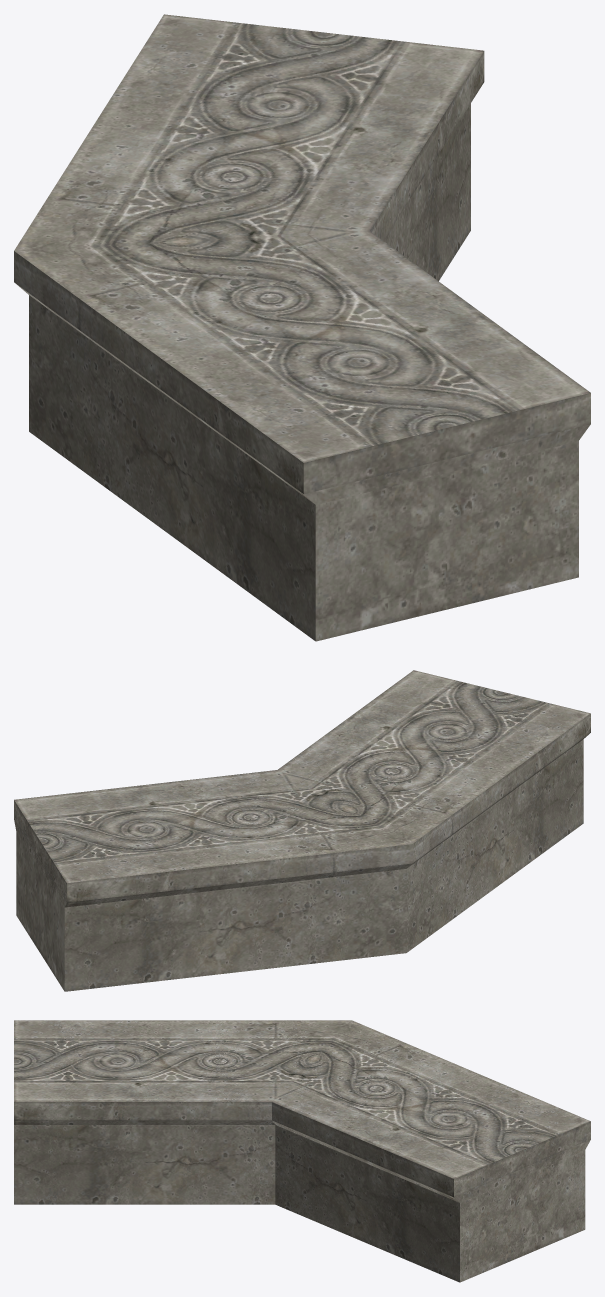
The model's file is bg_lut_lucastle_castleborder01c_sm_phs.FBX.
3 views of the same model, one above another, from view 1: azimuth 30°, elevation 25°; view 2: azimuth 150°, elevation 25°; view 3: azimuth 270°, elevation 25° (orthographic). The views are drawn at different scales.
Visible parts, largest first — view 1: bg_lut_lucastle_castleborder01c_sm_phs; view 2: bg_lut_lucastle_castleborder01c_sm_phs; view 3: bg_lut_lucastle_castleborder01c_sm_phs.
Boxes of the visible parts, left/top/right/bottom form: bg_lut_lucastle_castleborder01c_sm_phs: left=14, top=14, right=590, bottom=641; bg_lut_lucastle_castleborder01c_sm_phs: left=14, top=670, right=590, bottom=991; bg_lut_lucastle_castleborder01c_sm_phs: left=14, top=1020, right=590, bottom=1282.
Bounding box in the file's own units: 186 × 58 × 286.
